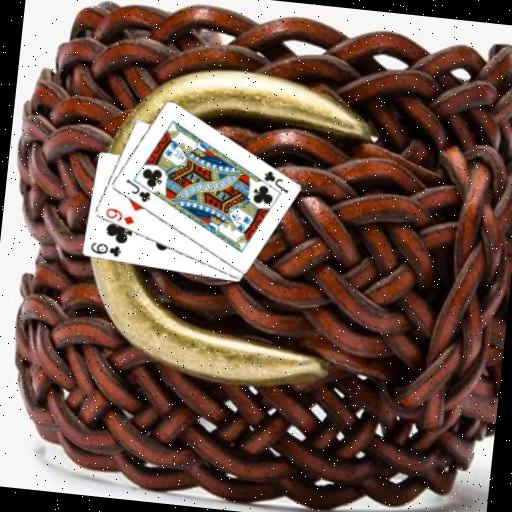6C: (87, 238, 124, 259)
9D: (101, 205, 137, 227)
JC: (121, 175, 154, 204), (259, 168, 292, 196)
